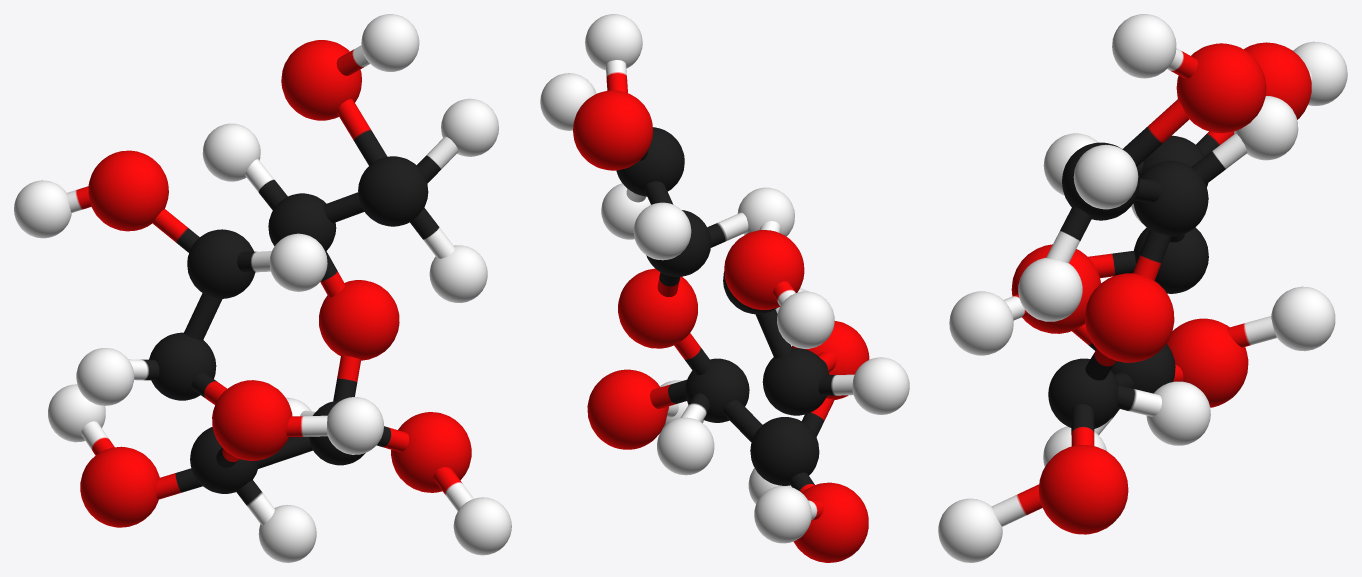
Rendered from GlucoseMolecule.fbx.
3 renders of one model, left to right at view 1: azimuth 30°, elevation 25°; view 2: azimuth 150°, elevation 25°; view 3: azimuth 270°, elevation 25°, orthographic. The views are drawn at different scales.
Visible parts, largest first — view 1: Molecule; view 2: Molecule; view 3: Molecule.
Part boxes in pixels (x1,y1,x2,y2): Molecule: (14, 14, 511, 562); Molecule: (540, 14, 909, 562); Molecule: (938, 14, 1347, 562).
Bounding box in the file's own units: 2.66 × 3.19 × 2.18.
